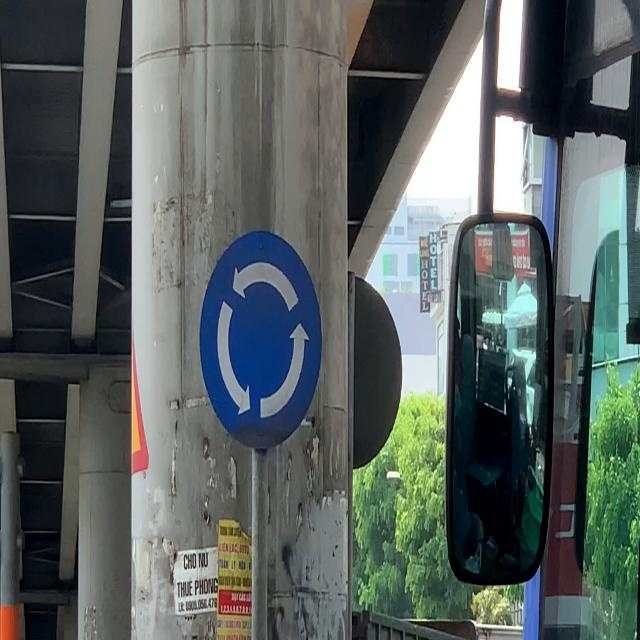bien_hieu_lenh: (196, 225, 325, 454)
